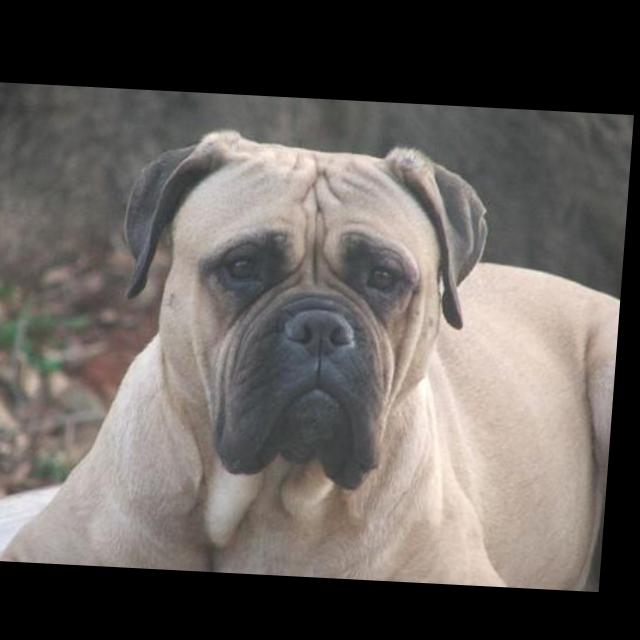bullmastiff: (1, 117, 634, 586)
